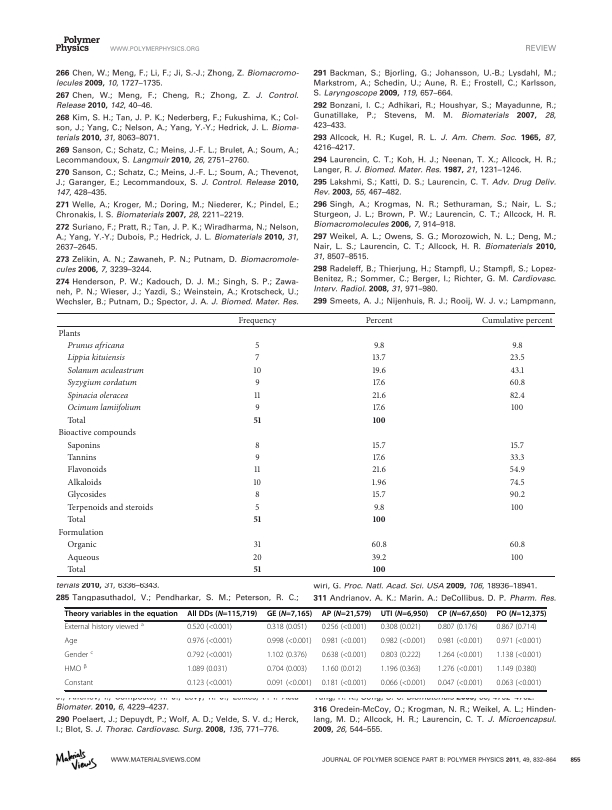borderless: (55, 311, 555, 576), (63, 606, 546, 690)
cell: (64, 610, 179, 619), (63, 621, 145, 633), (66, 502, 154, 513), (57, 427, 137, 438), (66, 365, 145, 376), (66, 402, 142, 413), (481, 315, 554, 326), (66, 378, 138, 388), (66, 390, 129, 401), (66, 340, 125, 351), (186, 610, 258, 619), (66, 353, 126, 363), (57, 527, 104, 538), (186, 623, 233, 633), (186, 637, 233, 647), (495, 637, 542, 647), (186, 651, 233, 661), (495, 651, 542, 661), (186, 679, 233, 689), (495, 679, 542, 689), (495, 610, 547, 619), (321, 623, 367, 633), (266, 637, 312, 647), (321, 637, 367, 647), (380, 637, 426, 647), (437, 637, 483, 647), (321, 651, 367, 661), (437, 651, 483, 661), (437, 665, 483, 675), (266, 679, 312, 689), (321, 679, 367, 689), (380, 679, 426, 689), (437, 679, 483, 689), (321, 610, 372, 619), (437, 610, 488, 619), (380, 610, 429, 619), (238, 315, 277, 326), (266, 610, 313, 619), (266, 623, 308, 633), (380, 623, 422, 633), (437, 623, 479, 633), (495, 623, 537, 633), (266, 651, 308, 661), (380, 651, 422, 661), (186, 665, 228, 675), (266, 665, 308, 675), (380, 665, 422, 675), (495, 665, 537, 675), (66, 465, 108, 475), (321, 665, 362, 675), (66, 490, 107, 500), (66, 477, 103, 488), (66, 552, 100, 563), (64, 649, 94, 661), (66, 539, 98, 550), (66, 440, 101, 450), (66, 452, 97, 463), (365, 315, 394, 326), (64, 679, 94, 689), (64, 663, 88, 675), (57, 328, 81, 338), (66, 415, 87, 426), (66, 564, 87, 575), (66, 515, 87, 525), (509, 390, 526, 401), (509, 477, 526, 488), (371, 539, 388, 550), (509, 539, 526, 550), (371, 365, 387, 376), (371, 390, 387, 401), (509, 452, 525, 463), (371, 477, 387, 488), (371, 552, 387, 563), (509, 353, 526, 363), (509, 378, 526, 388), (509, 465, 526, 475), (509, 490, 526, 500), (510, 365, 525, 376), (371, 465, 387, 475), (372, 402, 386, 413), (510, 402, 524, 413), (372, 452, 386, 463), (510, 502, 524, 513), (510, 552, 524, 563), (372, 353, 387, 363), (372, 440, 387, 450), (510, 440, 525, 450), (372, 490, 387, 500), (511, 340, 524, 351), (64, 637, 78, 647), (372, 378, 386, 388), (372, 564, 387, 573), (373, 340, 385, 351), (373, 502, 385, 513), (252, 552, 263, 563), (372, 415, 387, 423), (372, 515, 387, 523), (253, 365, 262, 376), (253, 477, 262, 488), (253, 539, 262, 550), (253, 390, 261, 401), (253, 564, 262, 573), (253, 465, 261, 475), (254, 402, 261, 413), (254, 452, 261, 463), (253, 415, 262, 423), (253, 515, 262, 523), (254, 378, 261, 388), (254, 440, 261, 450), (254, 490, 261, 500), (254, 340, 260, 351), (254, 502, 260, 513), (254, 353, 260, 363)
